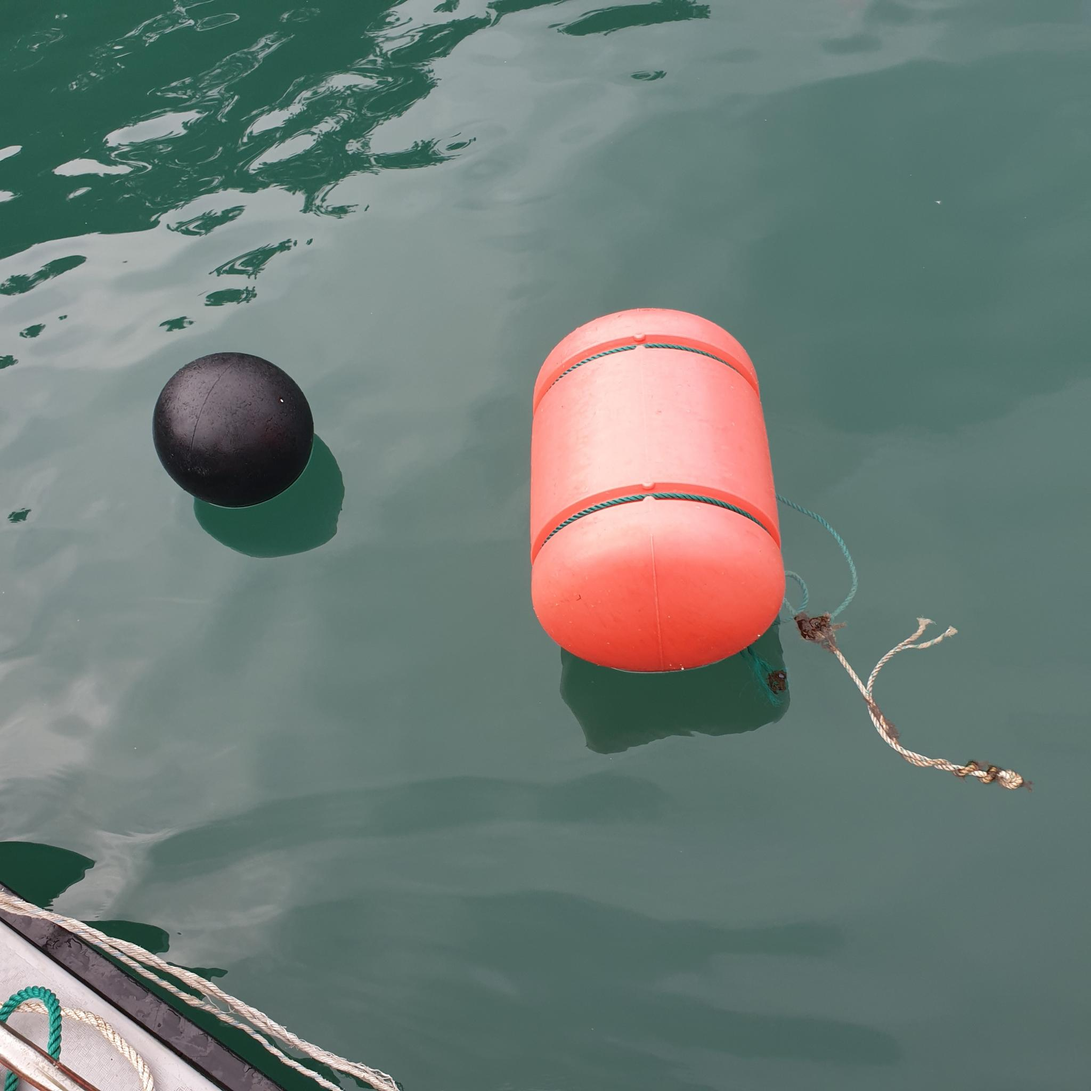sampah_terapung: (531, 307, 786, 674), (776, 493, 1023, 790), (153, 352, 315, 509), (1, 987, 153, 1091), (742, 646, 789, 708)
